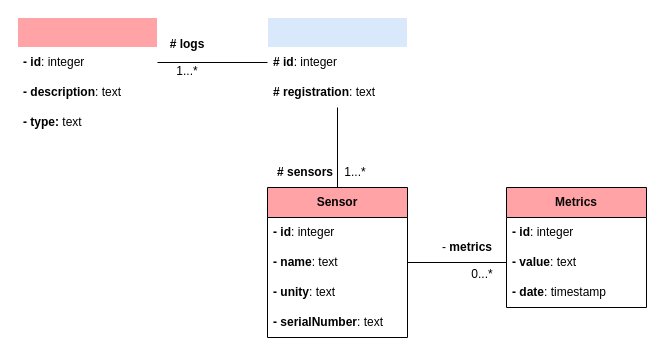
The diagram is 664 pixels wide and 355 high, and some of its shapes have lost their labels. Here are the shapes that lost their labels. From the top down, the box of each, then its label:
(16, 16, 158, 138): Log
(266, 16, 408, 108): Vehicle
